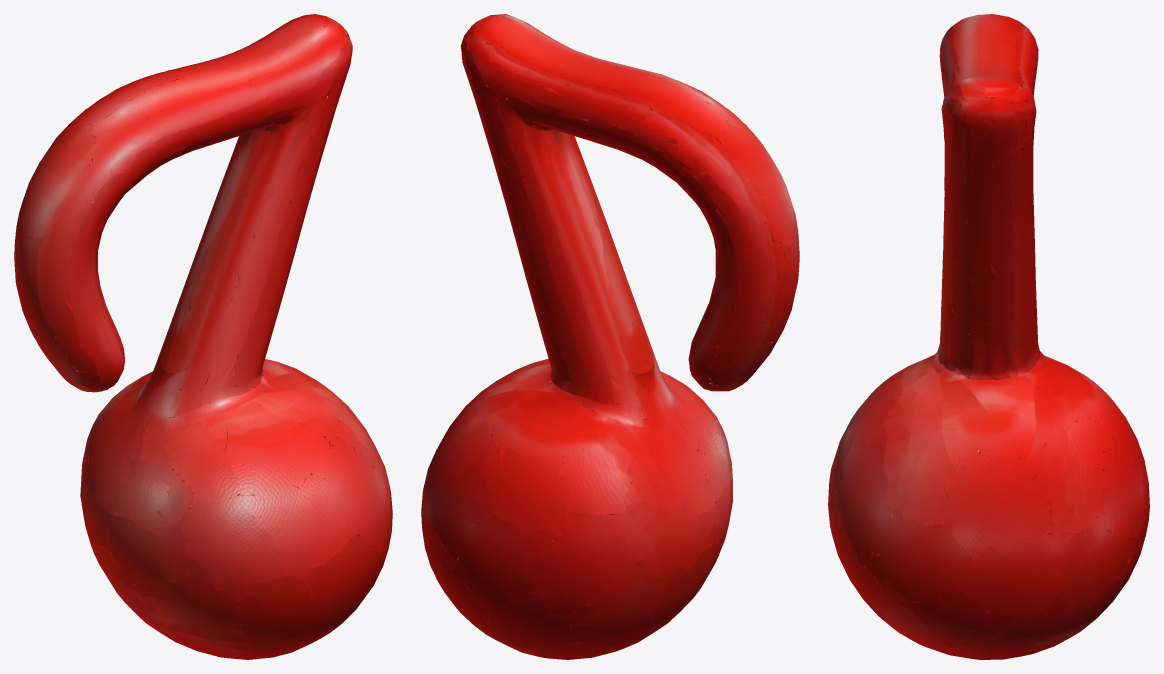
The model's file is RedMusicNote.fbx.
3 renders of one model, left to right at view 1: azimuth 30°, elevation 25°; view 2: azimuth 150°, elevation 25°; view 3: azimuth 270°, elevation 25°, orthographic.
Visible parts, largest first — view 1: RedMusicNote; view 2: RedMusicNote; view 3: RedMusicNote.
Part boxes in pixels (x1,y1,x2,y2): RedMusicNote: [14, 14, 392, 659]; RedMusicNote: [421, 14, 799, 659]; RedMusicNote: [828, 14, 1149, 659].
Bounding box in the file's own units: 0.6039 × 1 × 0.4831.
Materials: 1 (1 with a texture image).
